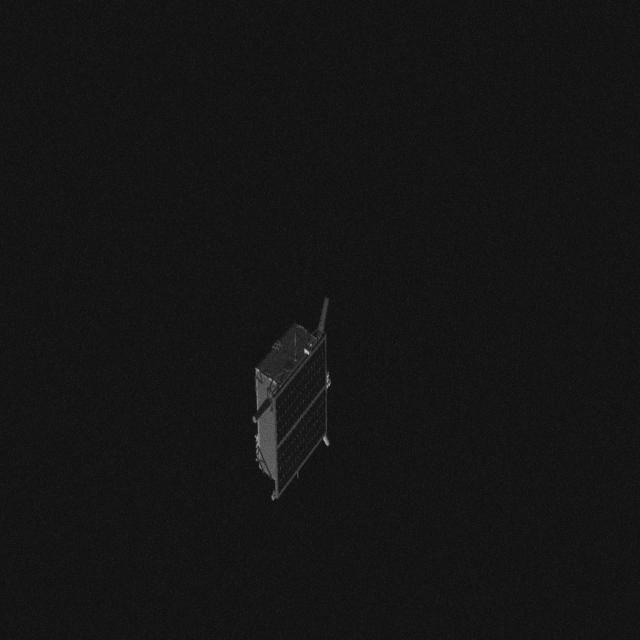medium_debris: (250, 292, 352, 508)
